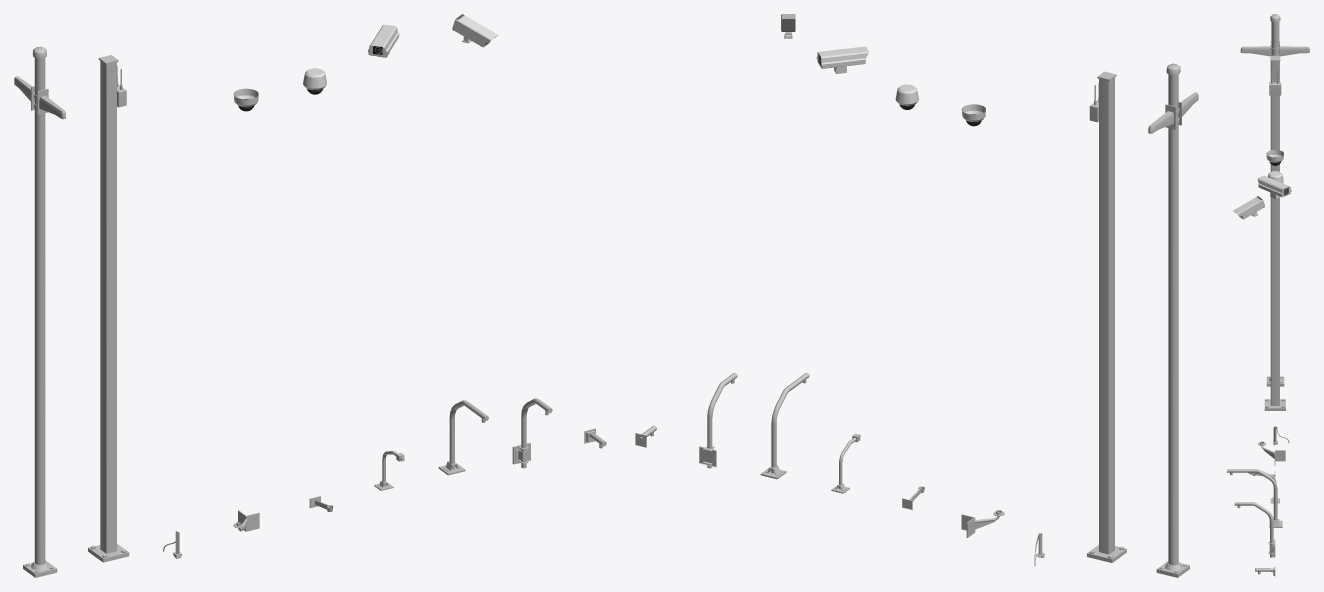
File: CCTV_Pack.fbx
3 views of the same model, side by side, from view 1: azimuth 30°, elevation 25°; view 2: azimuth 150°, elevation 25°; view 3: azimuth 270°, elevation 25° (orthographic). The views are drawn at different scales.
Visible parts, largest first — view 1: prop_cctv_pole_01a, prop_cctv_pole_02, prop_cctv_cam_01a.001, prop_cctv_cam_04a, prop_cctv_cam_04b; view 2: prop_cctv_pole_01a, prop_cctv_pole_02, prop_cctv_cam_03a.001, prop_cctv_cam_04a, prop_cctv_cam_04b; view 3: prop_cctv_pole_01a, prop_cctv_pole_02, prop_cctv_cam_03a.001, prop_cctv_cam_04a, prop_cctv_cam_01a.001, prop_cctv_cam_04b, prop_cctv_cam_03a, prop_cctv_cam_04a.003, prop_cctv_cam_04a.001.
Part boxes in pixels (x1=…): prop_cctv_pole_01a: x1=88, y1=55, x2=129, y2=562; prop_cctv_pole_02: x1=14, y1=46, x2=65, y2=577; prop_cctv_cam_01a.001: x1=452, y1=14, x2=497, y2=47; prop_cctv_cam_04a: x1=438, y1=400, x2=488, y2=475; prop_cctv_cam_04b: x1=512, y1=398, x2=552, y2=468; prop_cctv_pole_01a: x1=1087, y1=71, x2=1126, y2=562; prop_cctv_pole_02: x1=1148, y1=63, x2=1198, y2=577; prop_cctv_cam_03a.001: x1=816, y1=46, x2=868, y2=73; prop_cctv_cam_04a: x1=760, y1=373, x2=809, y2=479; prop_cctv_cam_04b: x1=699, y1=373, x2=737, y2=468; prop_cctv_pole_01a: x1=1264, y1=56, x2=1285, y2=410; prop_cctv_pole_02: x1=1240, y1=14, x2=1309, y2=386; prop_cctv_cam_03a.001: x1=1257, y1=175, x2=1291, y2=198; prop_cctv_cam_04a: x1=1227, y1=469, x2=1282, y2=527; prop_cctv_cam_01a.001: x1=1233, y1=196, x2=1264, y2=219; prop_cctv_cam_04b: x1=1234, y1=502, x2=1275, y2=557; prop_cctv_cam_03a: x1=1258, y1=441, x2=1285, y2=465; prop_cctv_cam_04a.003: x1=1266, y1=150, x2=1283, y2=165; prop_cctv_cam_04a.001: x1=1267, y1=171, x2=1283, y2=183.
Size of the model in its own units: 824 by 753 by 148.
